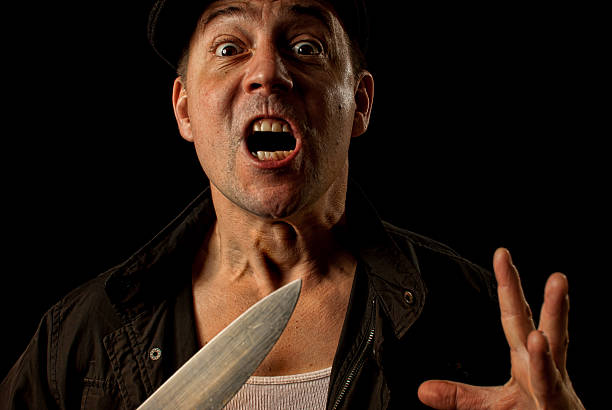knife: (136, 277, 304, 410)
